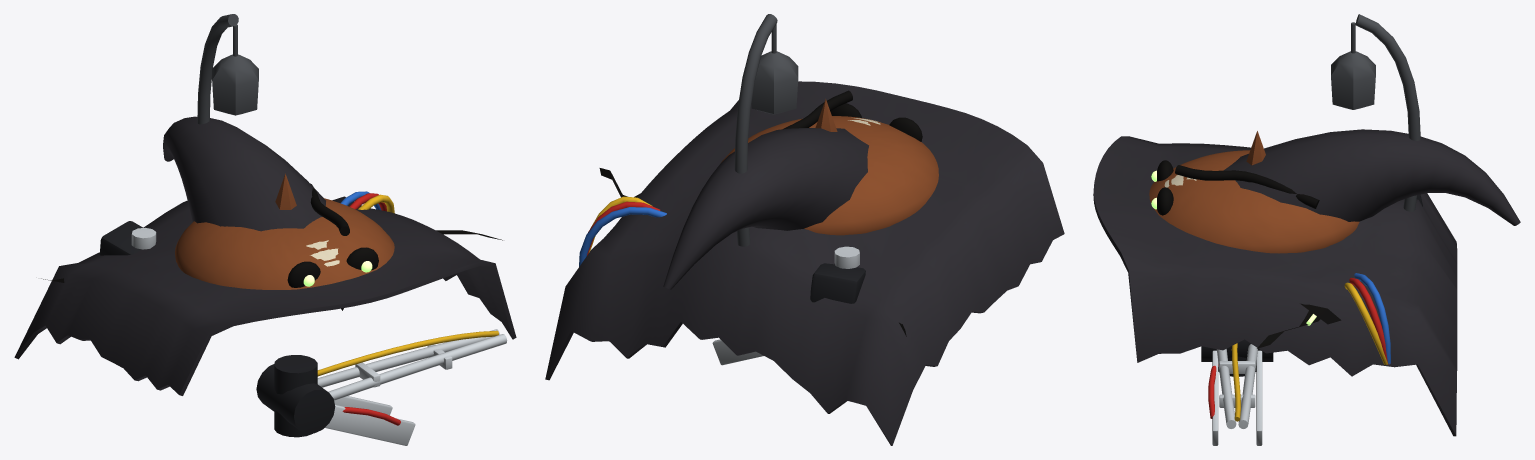
The model's file is undead-gear.glb.
The picture shows the model from 3 angles, left to right: view 1: azimuth 30°, elevation 25°; view 2: azimuth 150°, elevation 25°; view 3: azimuth 270°, elevation 25°; orthographic projection. The views are drawn at different scales.
Visible parts, largest first — view 1: crest_hood_mesh, crest_cracked-helm_mesh, undead_leg_calf_mesh, undead_leg_hip_mesh, crest_lantern_mesh, undead_gear_mesh, crest_skull-plate_mesh; view 2: crest_hood_mesh, crest_cracked-helm_mesh, crest_lantern_mesh, undead_gear_mesh, crest_skull-plate_mesh, undead_leg_hip_mesh; view 3: crest_hood_mesh, crest_cracked-helm_mesh, crest_lantern_mesh, undead_leg_calf_mesh, undead_gear_mesh, undead_leg_hip_mesh, crest_skull-plate_mesh.
Part boxes in pixels (x1=…): crest_hood_mesh: x1=14, y1=116, x2=516, y2=395; crest_cracked-helm_mesh: x1=175, y1=173, x2=394, y2=289; undead_leg_calf_mesh: x1=256, y1=329, x2=507, y2=433; undead_leg_hip_mesh: x1=274, y1=355, x2=415, y2=445; crest_lantern_mesh: x1=197, y1=14, x2=258, y2=124; undead_gear_mesh: x1=41, y1=191, x2=502, y2=282; crest_skull-plate_mesh: x1=287, y1=240, x2=378, y2=310; crest_hood_mesh: x1=545, y1=81, x2=1064, y2=445; crest_cracked-helm_mesh: x1=721, y1=90, x2=938, y2=235; crest_lantern_mesh: x1=734, y1=14, x2=798, y2=246; undead_gear_mesh: x1=579, y1=168, x2=906, y2=336; crest_skull-plate_mesh: x1=830, y1=103, x2=922, y2=141; undead_leg_hip_mesh: x1=712, y1=339, x2=763, y2=365; crest_hood_mesh: x1=1093, y1=129, x2=1520, y2=436; crest_cracked-helm_mesh: x1=1149, y1=131, x2=1359, y2=253; crest_lantern_mesh: x1=1331, y1=14, x2=1420, y2=211; undead_leg_calf_mesh: x1=1201, y1=339, x2=1273, y2=428; undead_gear_mesh: x1=1257, y1=194, x2=1422, y2=364; undead_leg_hip_mesh: x1=1208, y1=350, x2=1262, y2=445; crest_skull-plate_mesh: x1=1151, y1=160, x2=1196, y2=215.
Size of the model in its own units: 0.2152 by 0.2124 by 0.2136.
